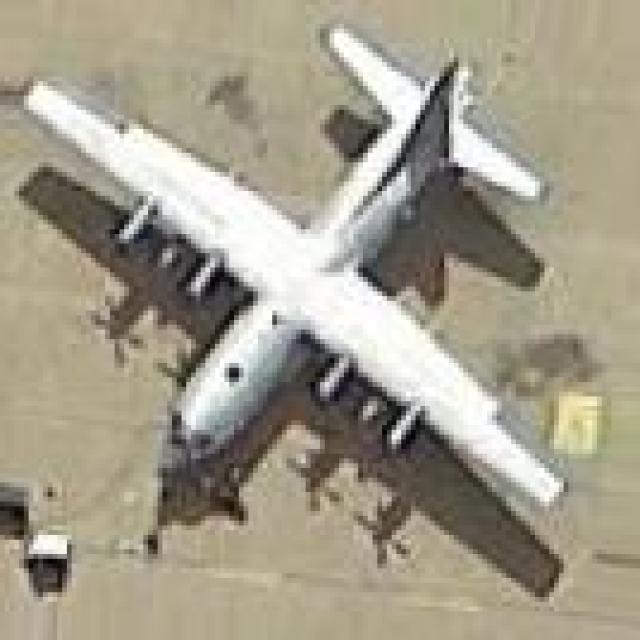C-130_TopDown: (0, 16, 568, 601)
